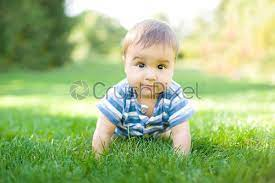child: (85, 21, 201, 165)
